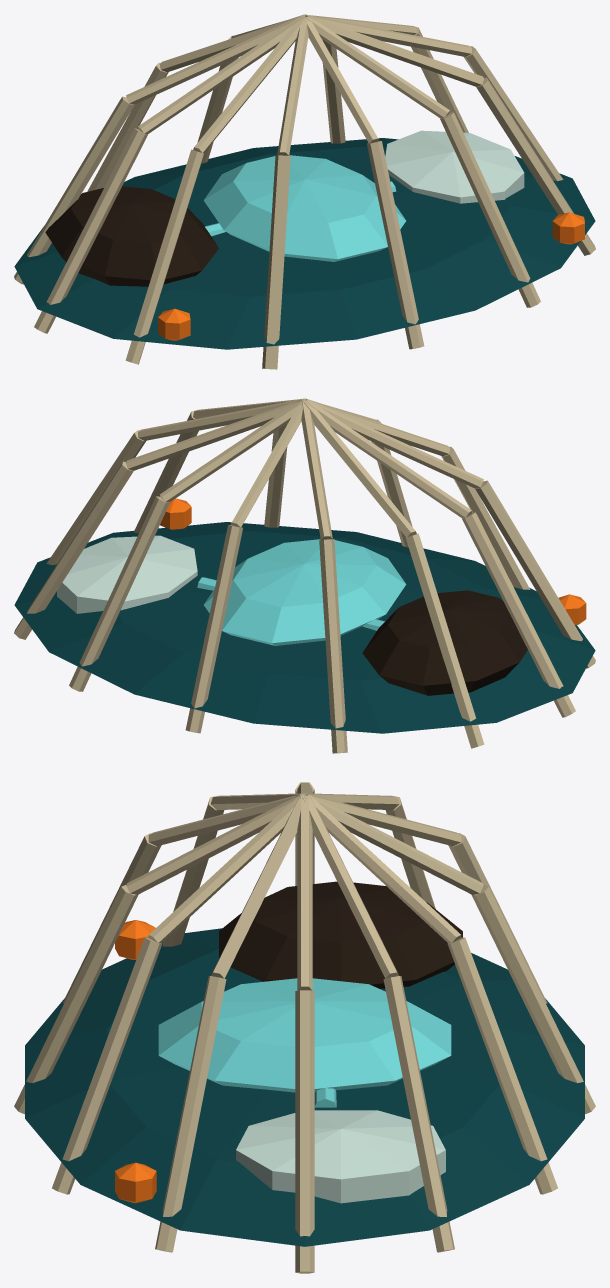
File: proc_mineral_washery_a.obj
The picture shows the model from 3 angles, top to bottom: view 1: azimuth 30°, elevation 25°; view 2: azimuth 150°, elevation 25°; view 3: azimuth 270°, elevation 25°; orthographic projection. The views are drawn at different scales.
Visible parts, largest first — view 1: base, lattice, wash_basin, dirty_intake, output_shelf, activity_organs; view 2: base, lattice, wash_basin, dirty_intake, output_shelf, activity_organs; view 3: base, lattice, wash_basin, dirty_intake, output_shelf, activity_organs.
Boxes of the visible parts, <box> form: base: <box>14,138,595,349</box>; lattice: <box>14,14,595,369</box>; wash_basin: <box>203,155,405,261</box>; dirty_intake: <box>45,186,218,286</box>; output_shelf: <box>385,130,524,203</box>; activity_organs: <box>158,212,584,340</box>; base: <box>14,522,595,733</box>; lattice: <box>14,398,595,753</box>; wash_basin: <box>204,539,406,645</box>; dirty_intake: <box>362,590,527,695</box>; output_shelf: <box>57,535,197,613</box>; activity_organs: <box>160,498,586,625</box>; base: <box>25,928,584,1246</box>; lattice: <box>14,782,595,1273</box>; wash_basin: <box>158,978,451,1092</box>; dirty_intake: <box>219,881,462,988</box>; output_shelf: <box>236,1110,445,1203</box>; activity_organs: <box>115,920,156,1203</box>.
Bounding box in the file's own units: 7.64 × 3.51 × 5.67.
